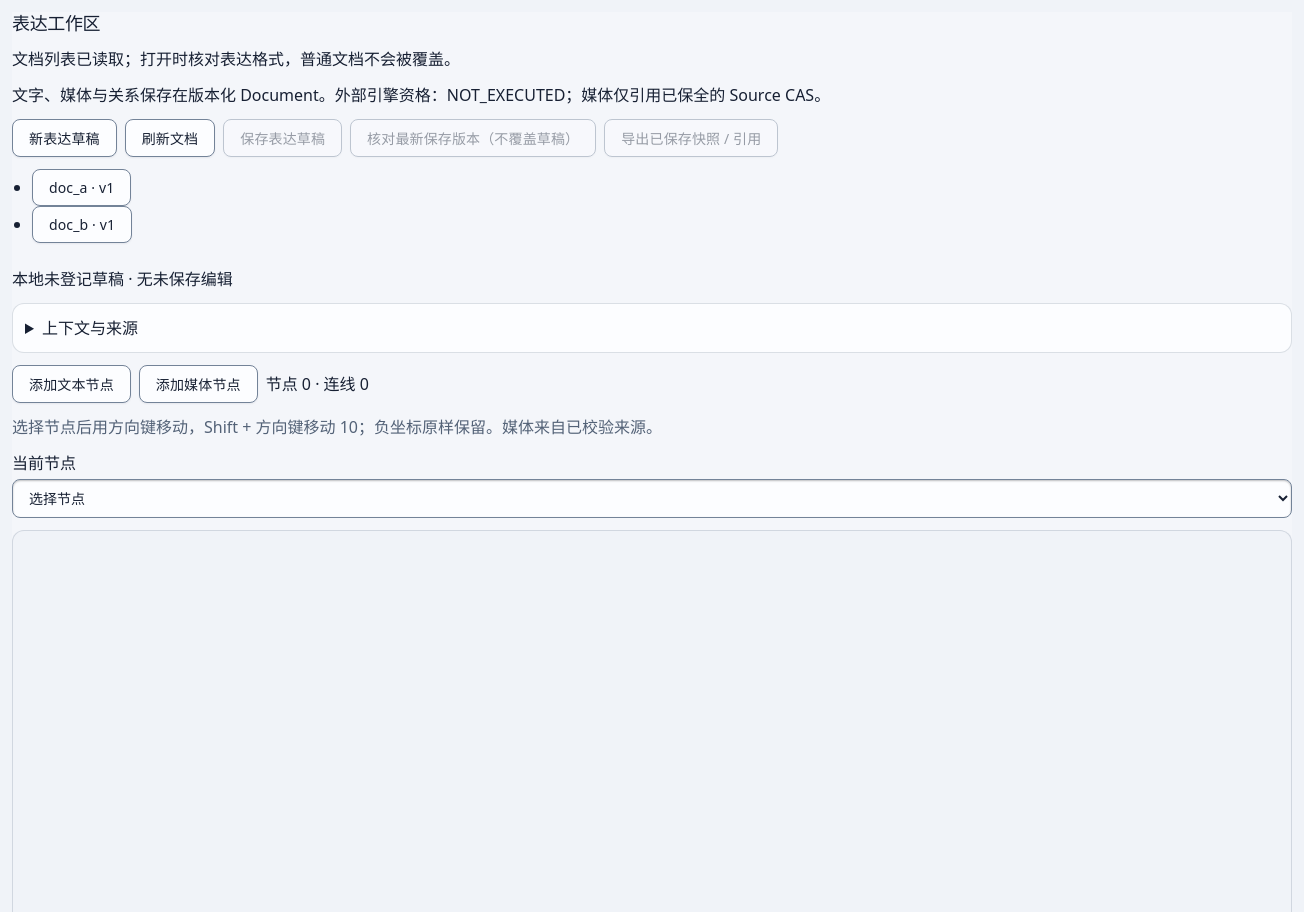
Test: 409 failure keeps original editor and never claims success
The width and height of the screenshot is (1304, 912).
Click the button "doc_a · v1": (82, 187) [32,168,132,206]
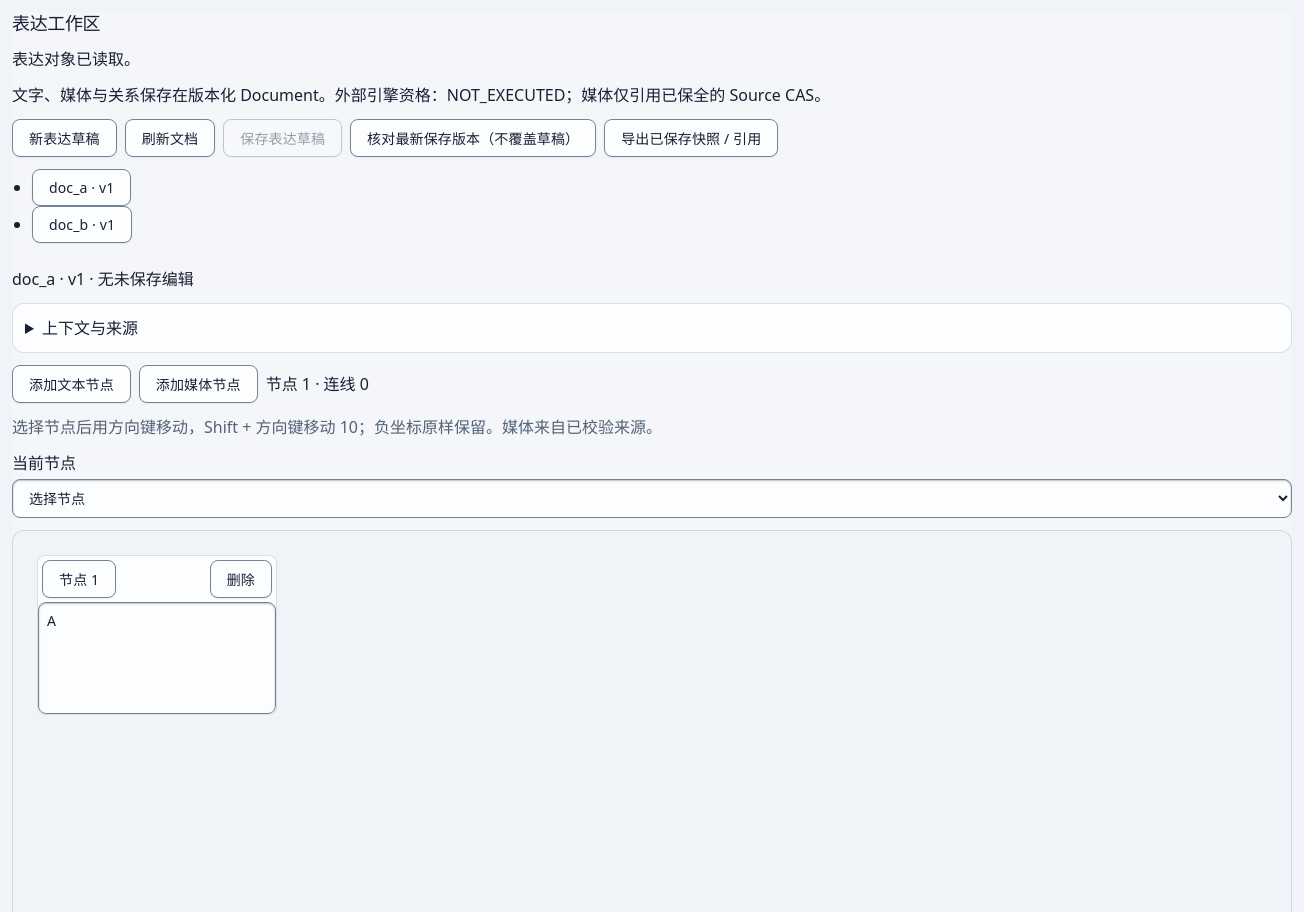
Now the text box named "节点文字 1" holds "A"
Replace the text in the text box named "节点文字 1" with "CONFLICT DRAFT": (157, 658) [38,602,276,714]
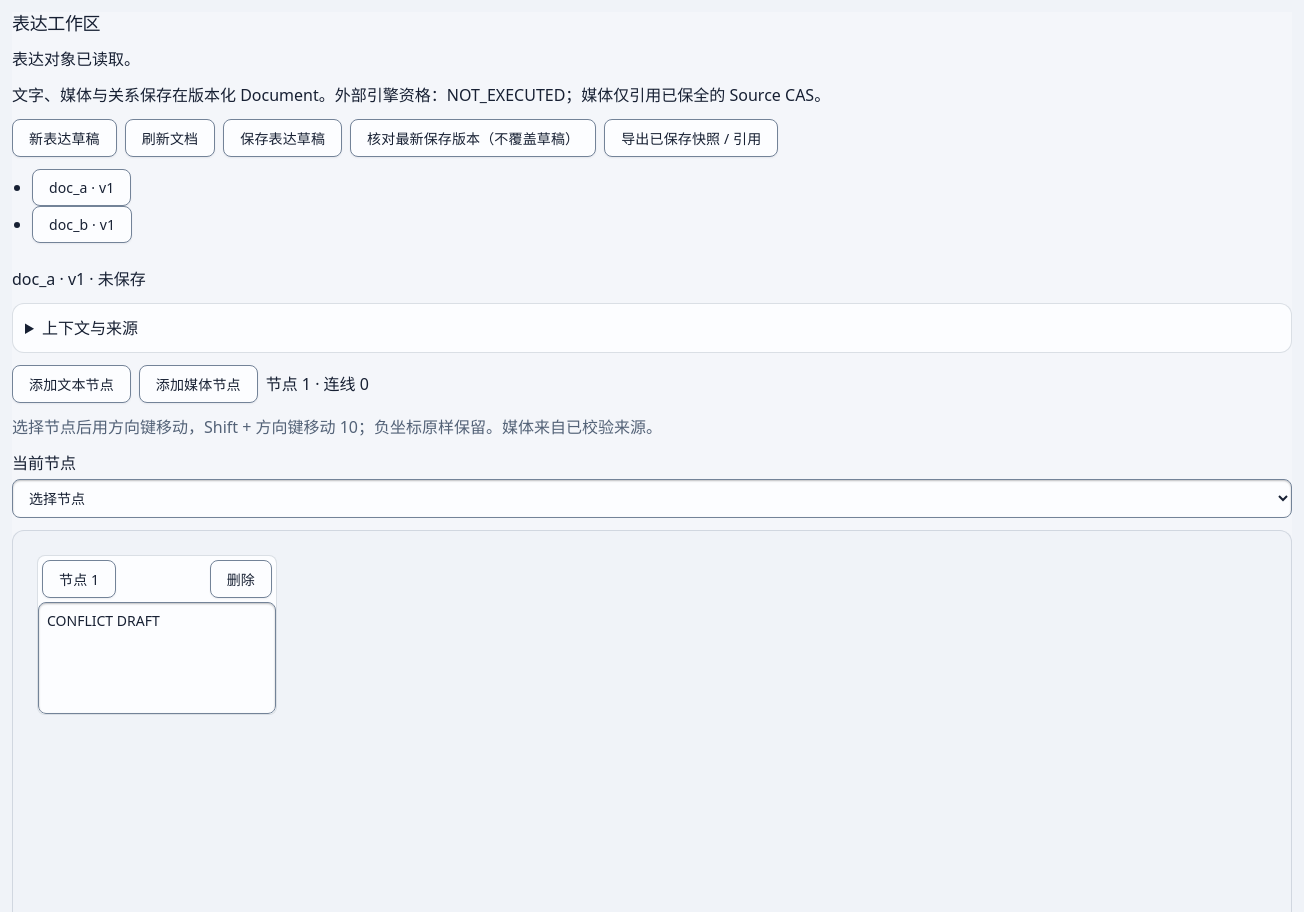
Click the button "保存表达草稿": (283, 138) [223,118,342,156]
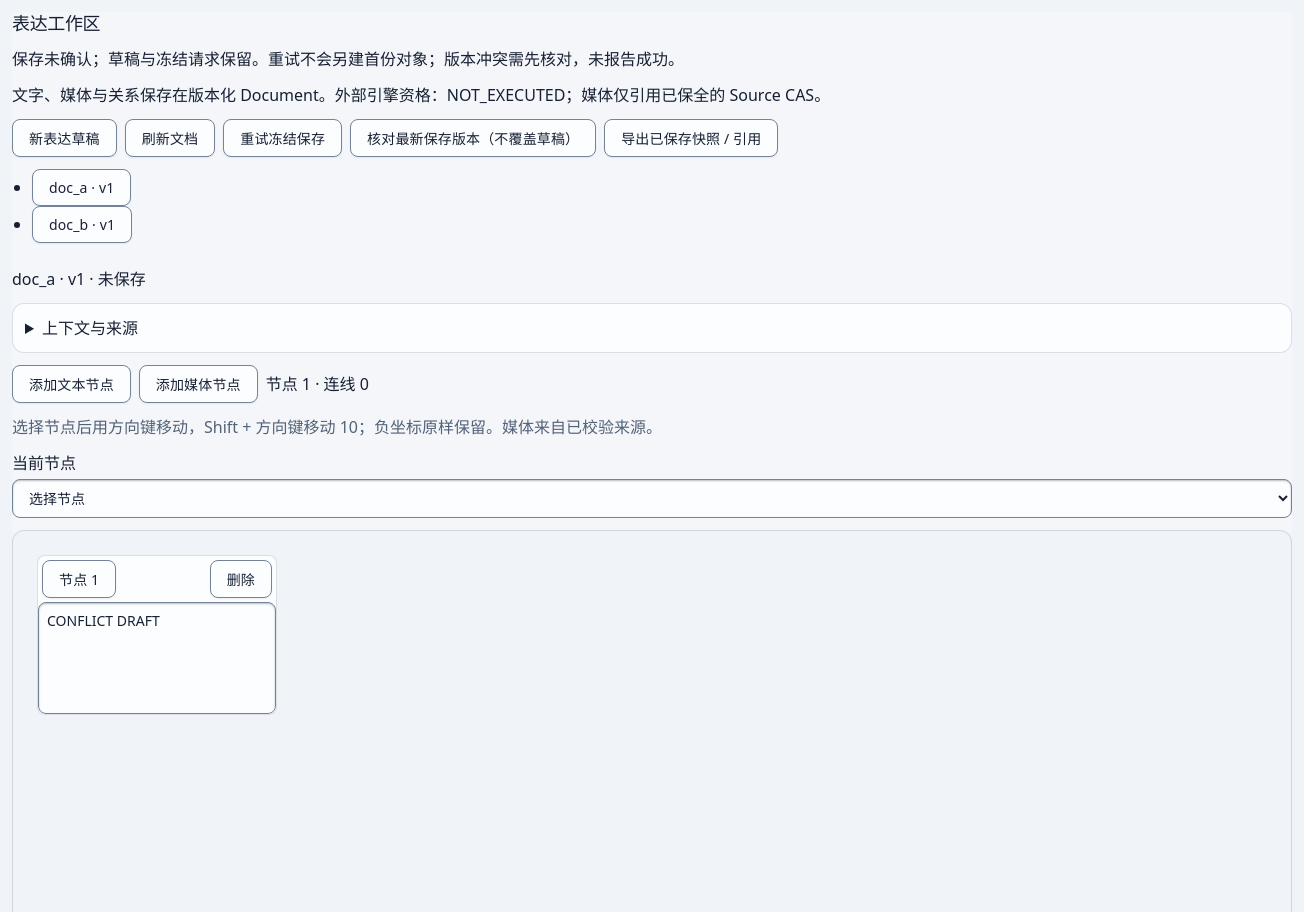
Now the message "保存未确认；草稿与冻结请求保留。重试不会另建首份对象；版本冲突需先核对，未报告成功。" is shown, box [12,48,684,70]
